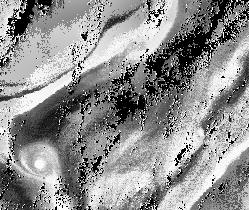CE: (18, 144, 62, 179)
